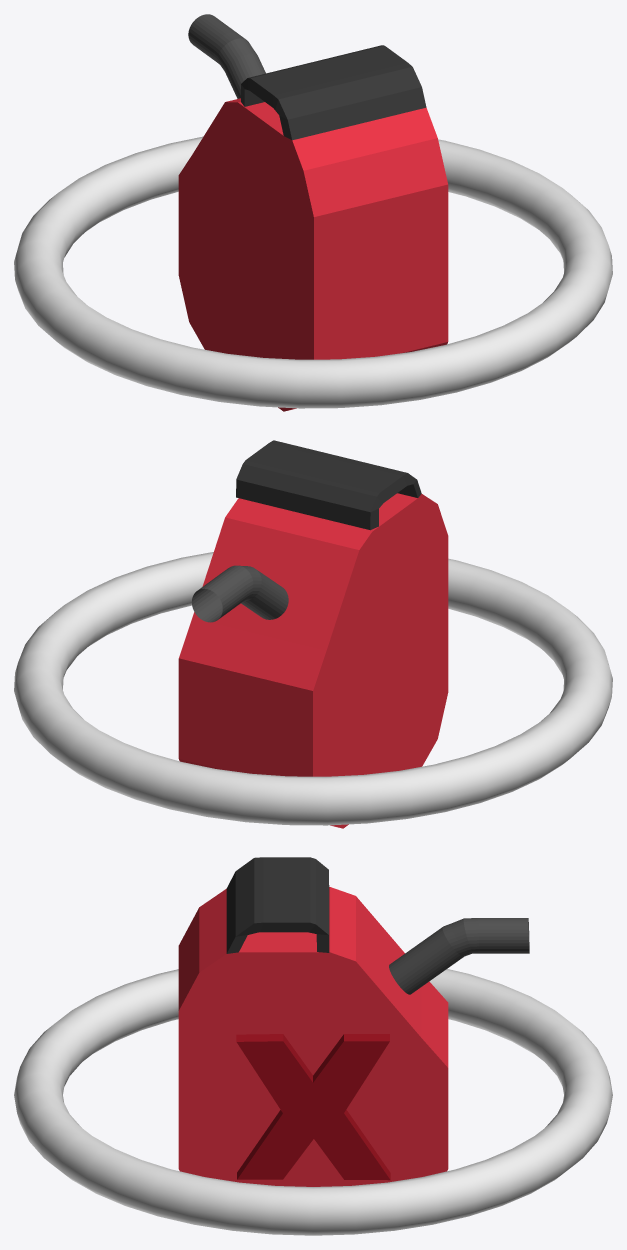
The model's file is FuelTankPolje.fbx.
3 views of the same model, one above another, from view 1: azimuth 30°, elevation 25°; view 2: azimuth 150°, elevation 25°; view 3: azimuth 270°, elevation 25° (orthographic).
Parts seen in each view (by area): view 1: FuelTank, Torus; view 2: FuelTank, Torus; view 3: FuelTank, Torus.
Boxes of the visible parts, left/top/right/bottom form: FuelTank: left=178, top=14, right=448, bottom=411; Torus: left=14, top=136, right=612, bottom=408; FuelTank: left=178, top=440, right=448, bottom=828; Torus: left=14, top=552, right=612, bottom=825; FuelTank: left=178, top=857, right=529, bottom=1186; Torus: left=14, top=969, right=612, bottom=1235.
Size of the model in its own units: 196 by 111 by 196.
